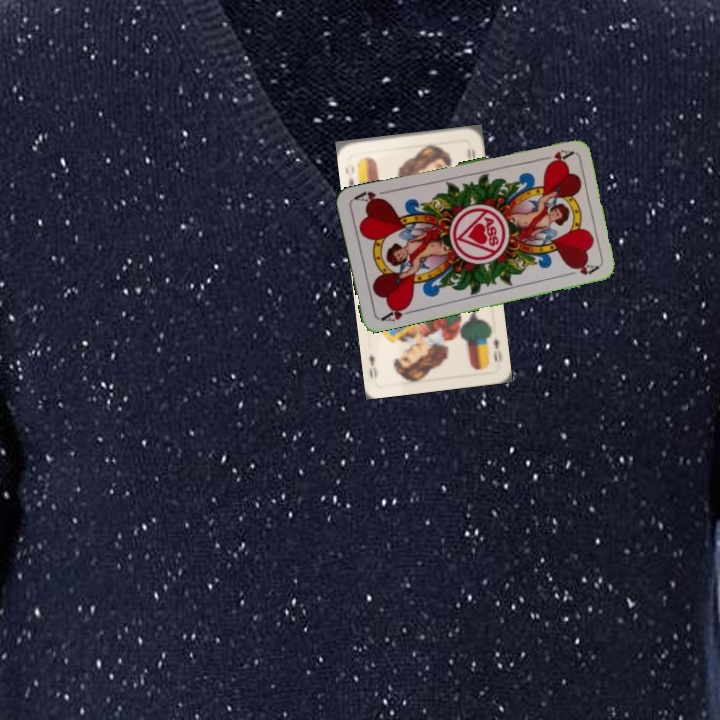EO: (341, 159, 357, 189), (489, 333, 504, 364)
HA: (377, 300, 416, 324), (534, 146, 575, 166)
